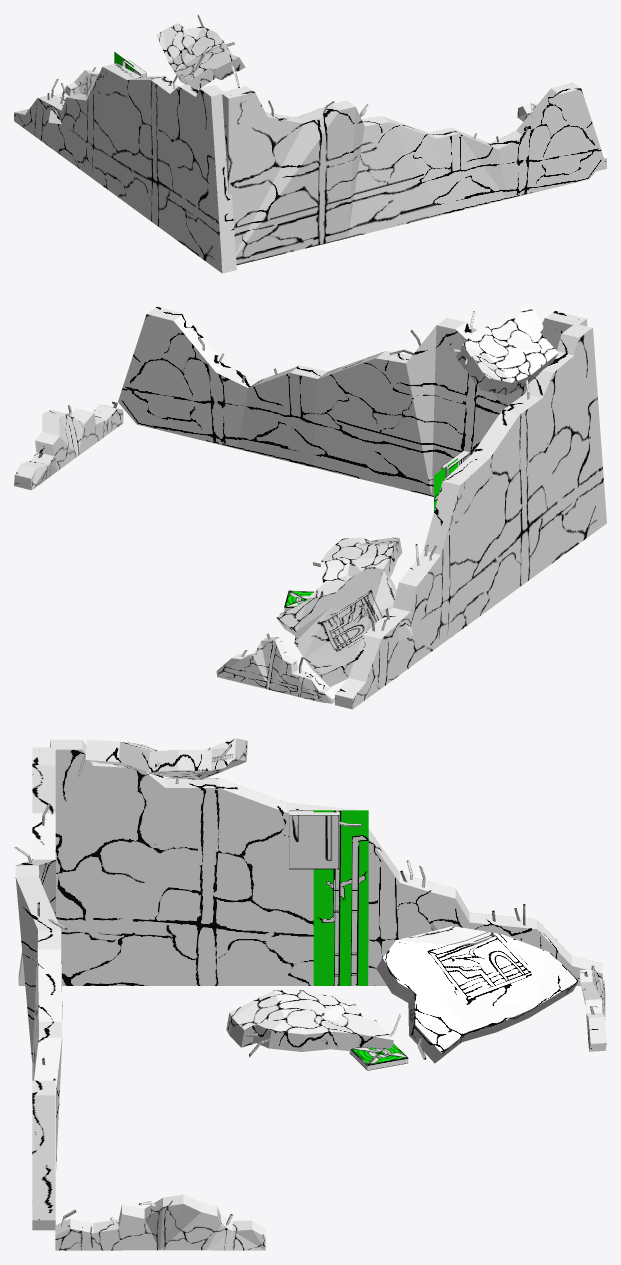
File: Building_02.fbx
3 views of the same model, one above another, from view 1: azimuth 30°, elevation 25°; view 2: azimuth 150°, elevation 25°; view 3: azimuth 270°, elevation 25° (orthographic). The views are drawn at different scales.
Visible parts, largest first — view 1: Building_02; view 2: Building_02; view 3: Building_02.
Boxes of the visible parts, x1,y1,x2,y2 form: Building_02: [14, 14, 606, 273]; Building_02: [14, 302, 606, 709]; Building_02: [14, 738, 606, 1250].
Size of the model in its own units: 29.83 by 13.66 by 26.57.
